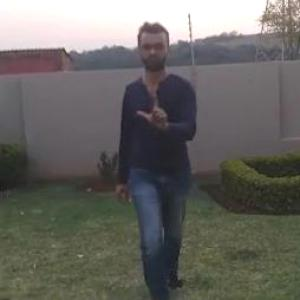land_hand: (132, 84, 174, 132)
